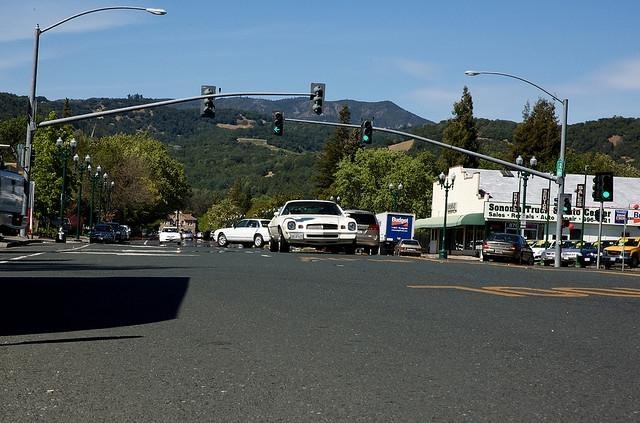car: (268, 200, 358, 255), (1, 170, 30, 244), (482, 232, 534, 266), (212, 219, 270, 248), (541, 240, 597, 268), (90, 224, 116, 244), (393, 239, 422, 256), (156, 226, 182, 244), (532, 240, 552, 261), (106, 223, 128, 242), (182, 231, 194, 240)
truck: (375, 211, 416, 253), (602, 239, 640, 267)
